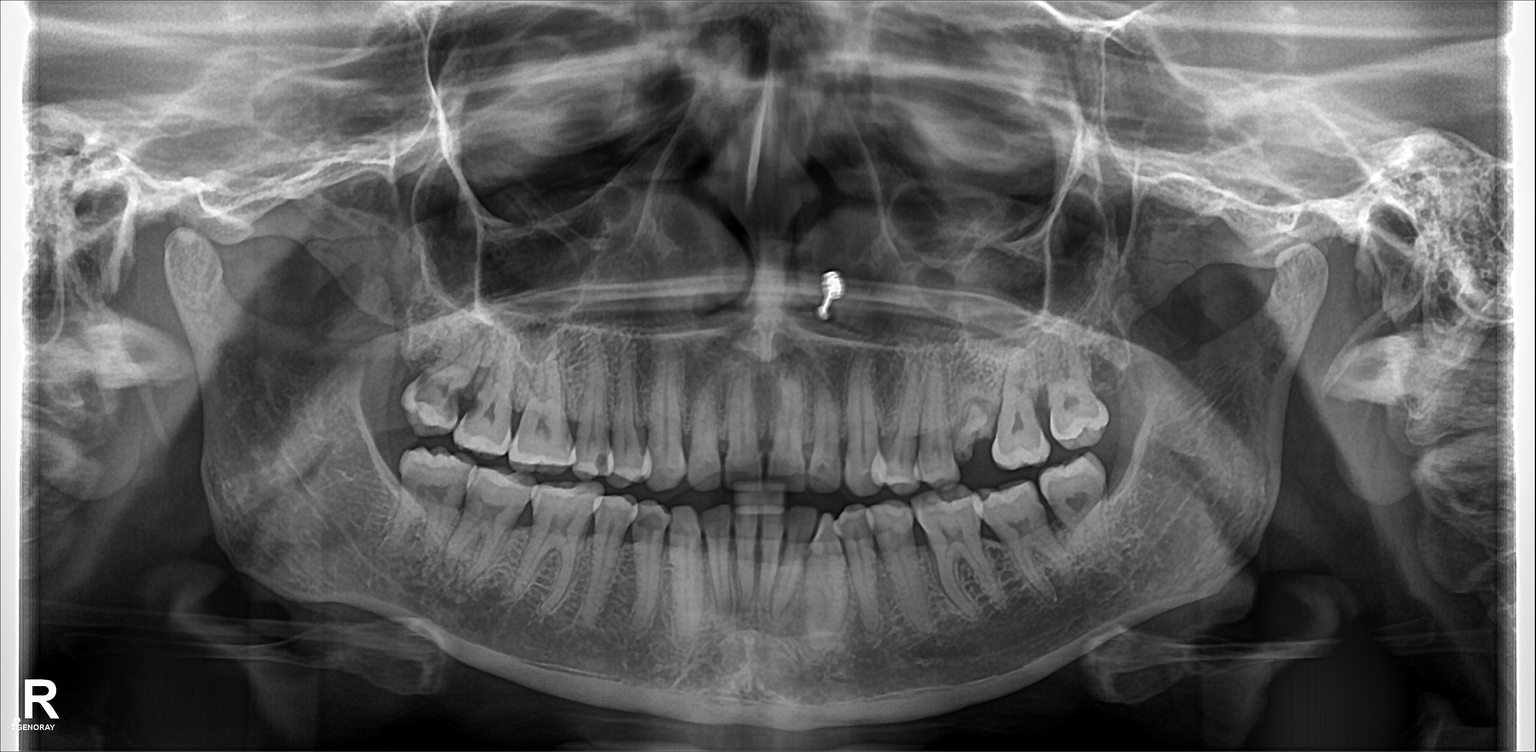Dental Caries: (516, 503, 536, 535), (590, 443, 614, 469)
Missing Tooth: (1099, 356, 1141, 450)
Tooth Fracture: (953, 374, 995, 469)
